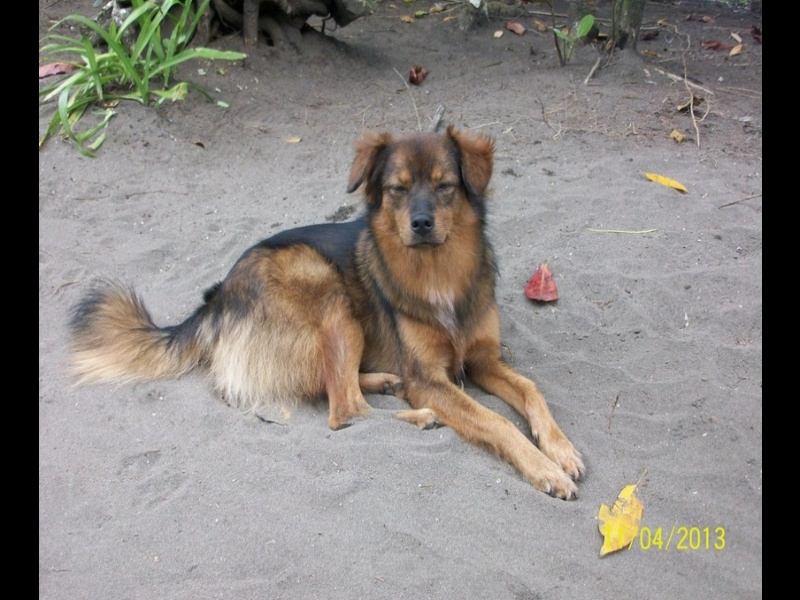dog: (61, 119, 593, 512)
